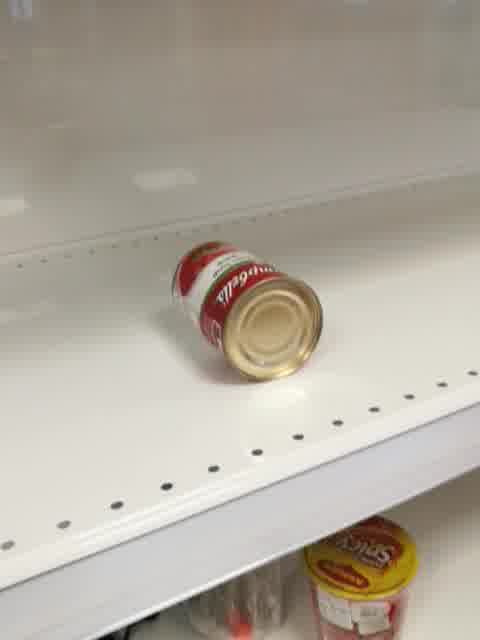tomatosoup: (168, 239, 323, 383)
